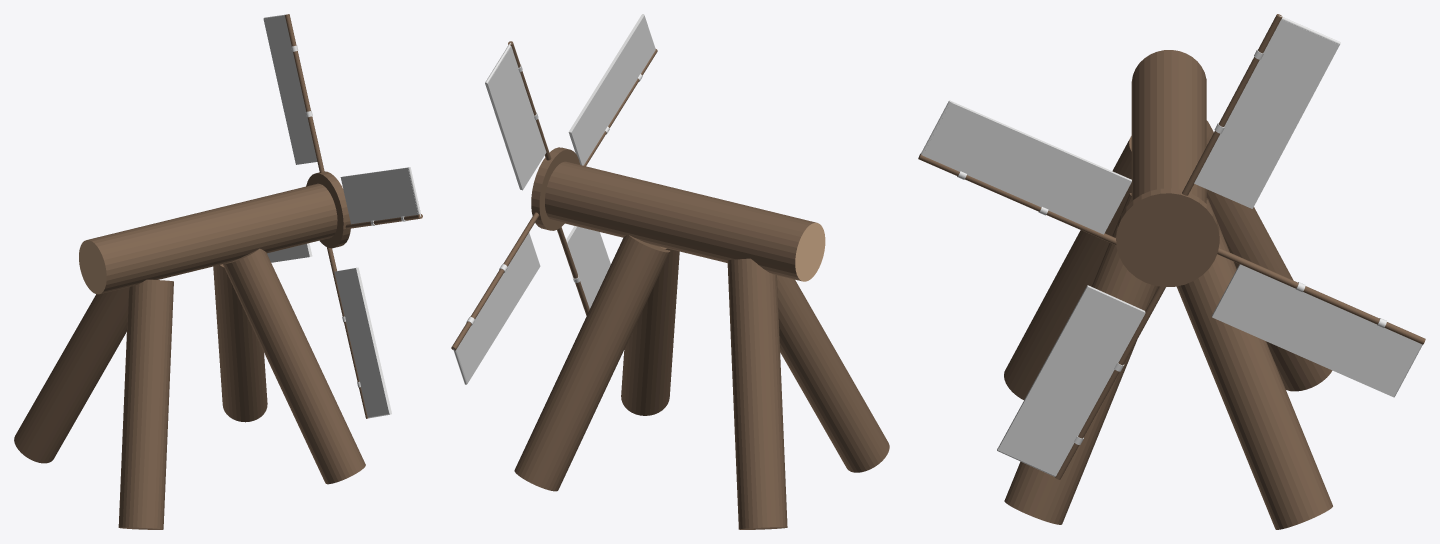
The model's file is mühle_neu.glb.
The picture shows the model from 3 angles, left to right: view 1: azimuth 30°, elevation 25°; view 2: azimuth 150°, elevation 25°; view 3: azimuth 270°, elevation 25°; orthographic projection. The views are drawn at different scales.
Visible parts, largest first — view 1: Cylinder.008, Cylinder.007, Cylinder.005, Cylinder.006, Cylinder.004, Cube.002, Cube.003, Cube.001, Cylinder.009, Cylinder.010, Cube, Cylinder.014; view 2: Cylinder.008, Cylinder.006, Cylinder.004, Cylinder.007, Cylinder.005, Cube.003, Cube.001, Cube, Cube.002, Cylinder.009, Cylinder; view 3: Cylinder.004, Cube.003, Cube.002, Cube, Cube.001, Cylinder.008, Cylinder.009, Cylinder.005, Cylinder.007, Cylinder.006, Cylinder, Cylinder.010 (+2 smaller).
Boxes of the visible parts, x1=… form: Cylinder.008: x1=79, y1=183, x2=337, y2=294; Cylinder.007: x1=118, y1=279, x2=173, y2=529; Cylinder.005: x1=223, y1=248, x2=365, y2=484; Cylinder.006: x1=14, y1=287, x2=129, y2=463; Cylinder.004: x1=213, y1=264, x2=267, y2=422; Cube.002: x1=334, y1=267, x2=391, y2=416; Cube.003: x1=340, y1=167, x2=418, y2=224; Cube.001: x1=263, y1=16, x2=317, y2=164; Cylinder.009: x1=306, y1=171, x2=350, y2=248; Cylinder.010: x1=285, y1=14, x2=324, y2=172; Cube: x1=267, y1=243, x2=312, y2=262; Cylinder.014: x1=327, y1=247, x2=368, y2=418; Cylinder.008: x1=545, y1=161, x2=825, y2=281; Cylinder.006: x1=727, y1=258, x2=787, y2=529; Cylinder.004: x1=514, y1=235, x2=670, y2=491; Cylinder.007: x1=777, y1=275, x2=889, y2=472; Cylinder.005: x1=621, y1=246, x2=679, y2=415; Cube.003: x1=568, y1=15, x2=655, y2=165; Cube.001: x1=485, y1=46, x2=546, y2=190; Cube: x1=456, y1=232, x2=540, y2=383; Cube.002: x1=566, y1=226, x2=610, y2=308; Cylinder.009: x1=531, y1=147, x2=580, y2=230; Cylinder: x1=451, y1=212, x2=539, y2=350; Cylinder.004: x1=1176, y1=198, x2=1332, y2=529; Cube.003: x1=923, y1=101, x2=1131, y2=234; Cube.002: x1=998, y1=285, x2=1145, y2=475; Cube: x1=1212, y1=264, x2=1420, y2=396; Cube.001: x1=1194, y1=19, x2=1339, y2=208; Cylinder.008: x1=1131, y1=50, x2=1206, y2=203; Cylinder.009: x1=1116, y1=188, x2=1219, y2=287; Cylinder.005: x1=1004, y1=193, x2=1158, y2=524; Cylinder.007: x1=1004, y1=136, x2=1131, y2=399; Cylinder.006: x1=1206, y1=120, x2=1332, y2=391; Cylinder: x1=1217, y1=248, x2=1425, y2=344; Cylinder.010: x1=1182, y1=14, x2=1282, y2=195.
Bounding box in the file's own units: 5.73 × 8.27 × 7.06.
